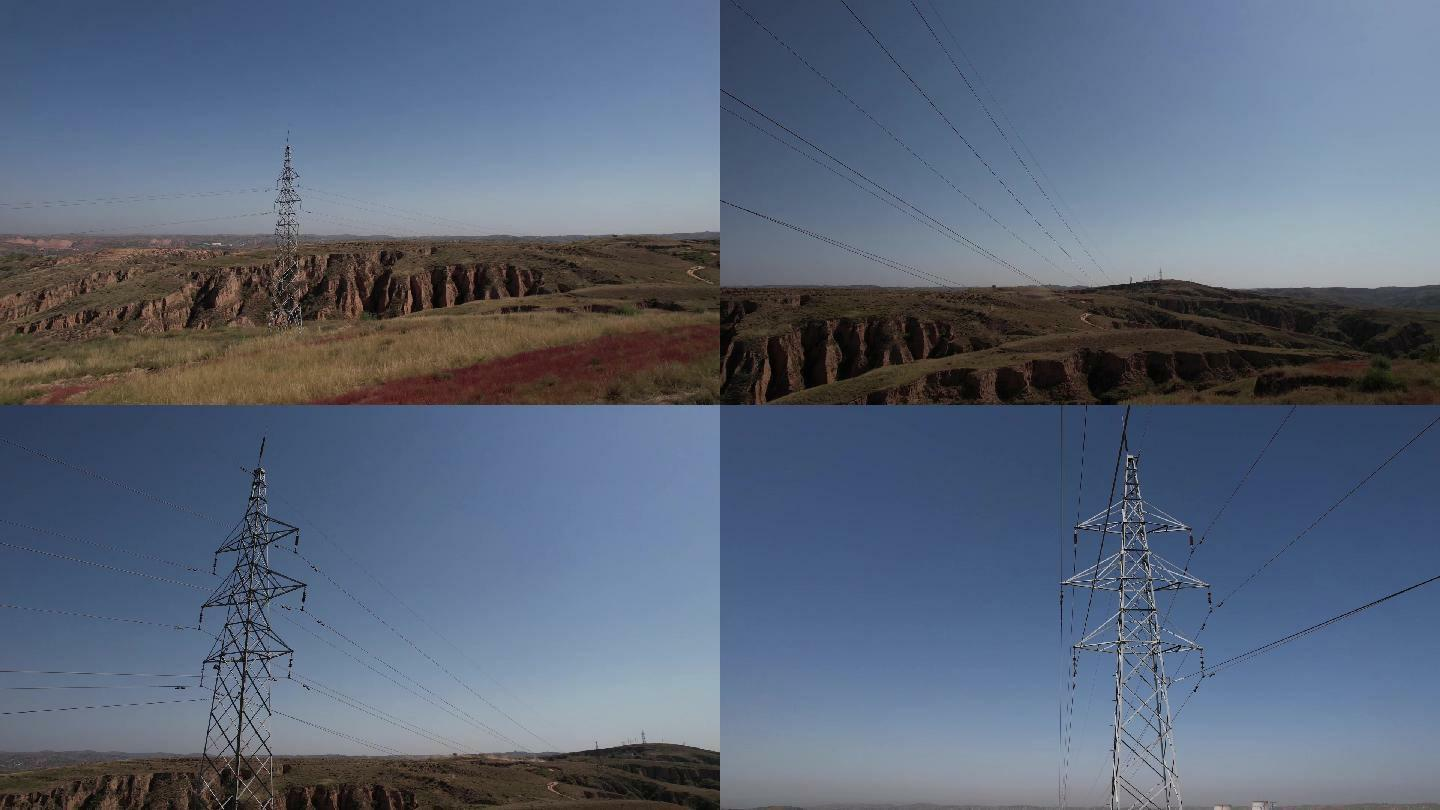power_tower: (1063, 447, 1224, 804), (188, 444, 311, 809), (268, 130, 330, 324)
